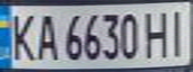0: (118, 9, 142, 60)
3: (100, 10, 124, 61)
6: (60, 10, 84, 62), (81, 10, 103, 62)
A: (30, 9, 60, 62)
H: (142, 7, 175, 58)
I: (163, 4, 193, 58)
K: (3, 9, 39, 62)
